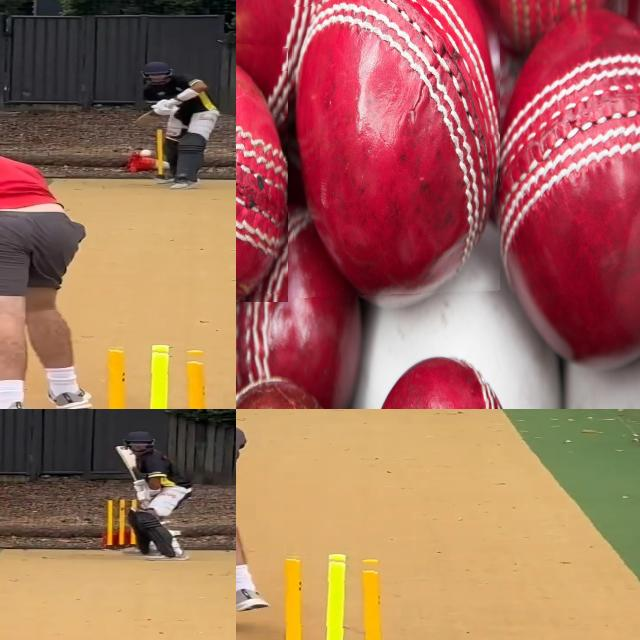Cricket ball: (292, 0, 499, 297), (500, 0, 640, 377), (236, 32, 287, 302), (137, 146, 155, 158), (331, 409, 347, 412)
Stumps: (261, 551, 401, 640), (85, 343, 223, 409), (103, 499, 137, 551)
